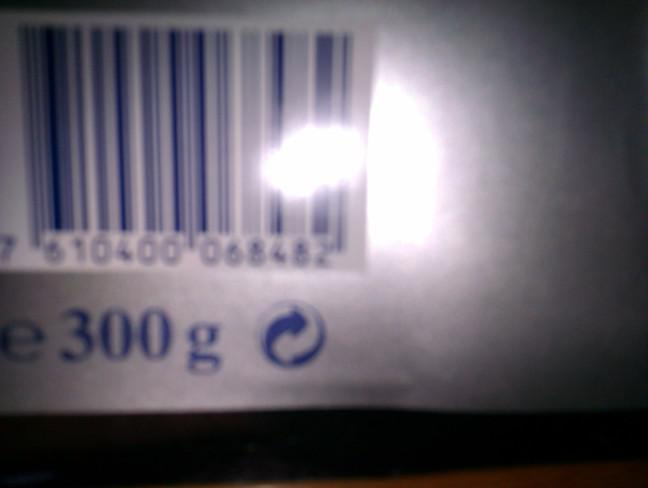Barkod: (3, 11, 376, 269)
